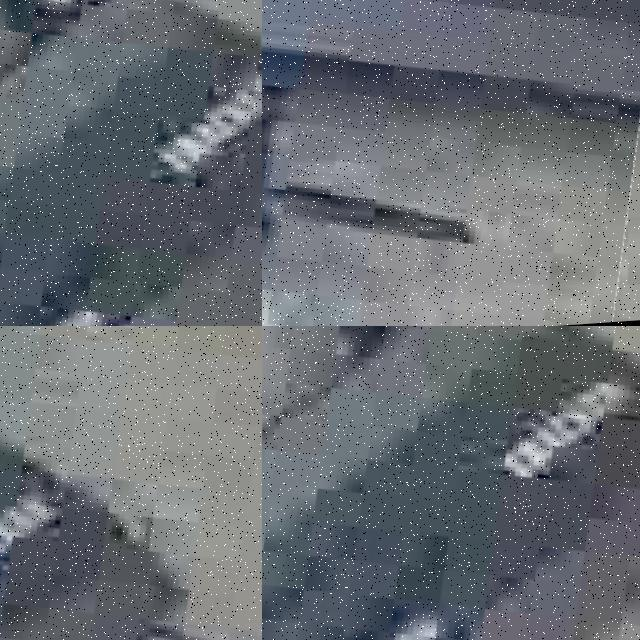drone: (262, 0, 640, 326), (262, 326, 640, 640), (0, 0, 262, 326), (0, 326, 262, 640)
